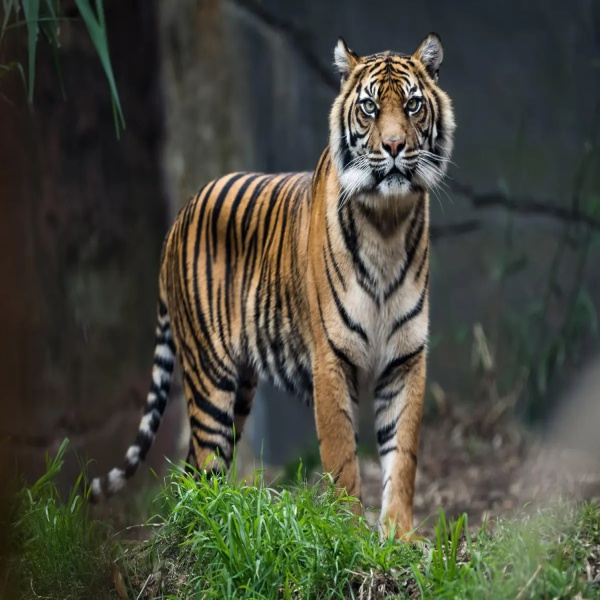Tiger: (80, 34, 459, 544)
